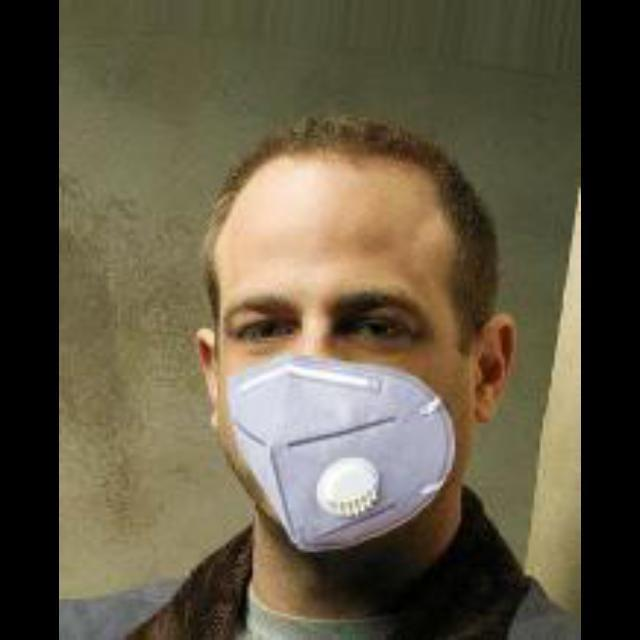1_mascarilla: (225, 354, 456, 554)
